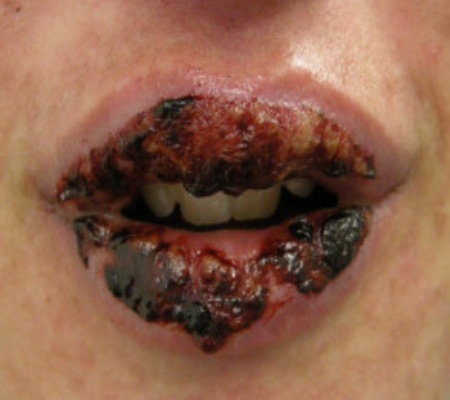SJS-TEN: (14, 44, 383, 272), (56, 201, 383, 364)
